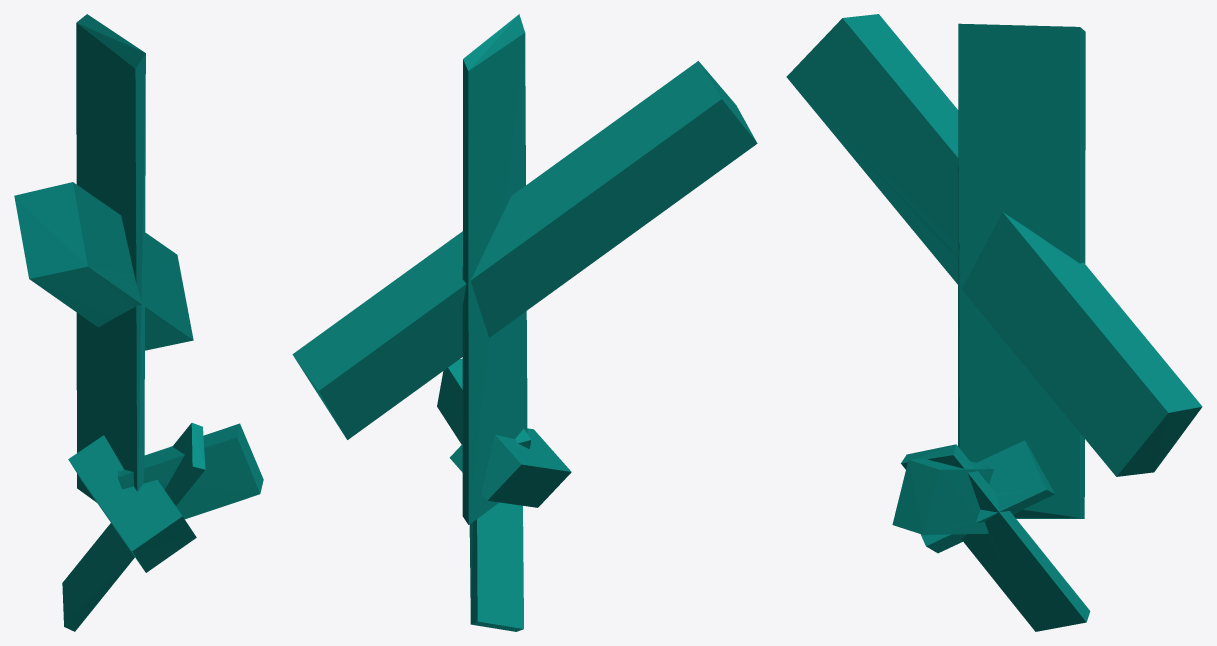
The picture shows the model from 3 angles, left to right: view 1: azimuth 30°, elevation 25°; view 2: azimuth 150°, elevation 25°; view 3: azimuth 270°, elevation 25°; orthographic projection. The views are drawn at different scales.
Visible parts, largest first — view 1: 769_Cube.3095; view 2: 769_Cube.3095; view 3: 769_Cube.3095.
Boxes of the visible parts, x1=… form: 769_Cube.3095: x1=14, y1=14, x2=263, y2=631; 769_Cube.3095: x1=292, y1=14, x2=757, y2=631; 769_Cube.3095: x1=786, y1=14, x2=1202, y2=631.
Size of the model in its own units: 8.37 by 15.31 by 9.23.
